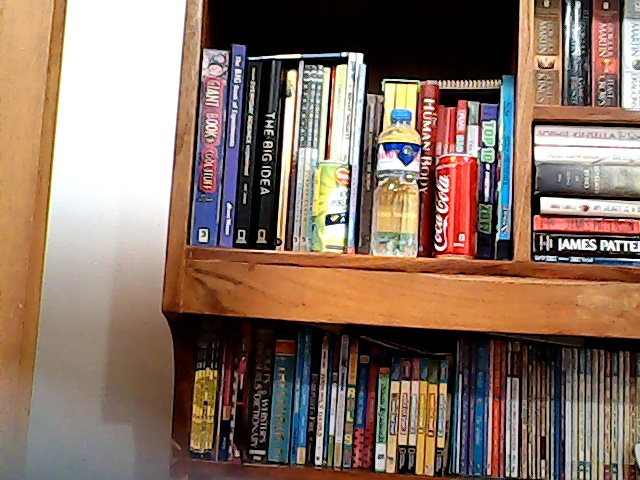Cola: (430, 147, 480, 263)
Pine Juice: (306, 150, 353, 263)
Summit Water: (365, 105, 425, 264)
